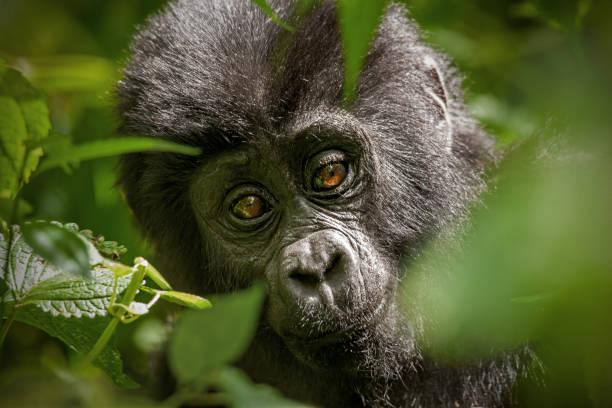goriile_montagne: (122, 0, 532, 401)
